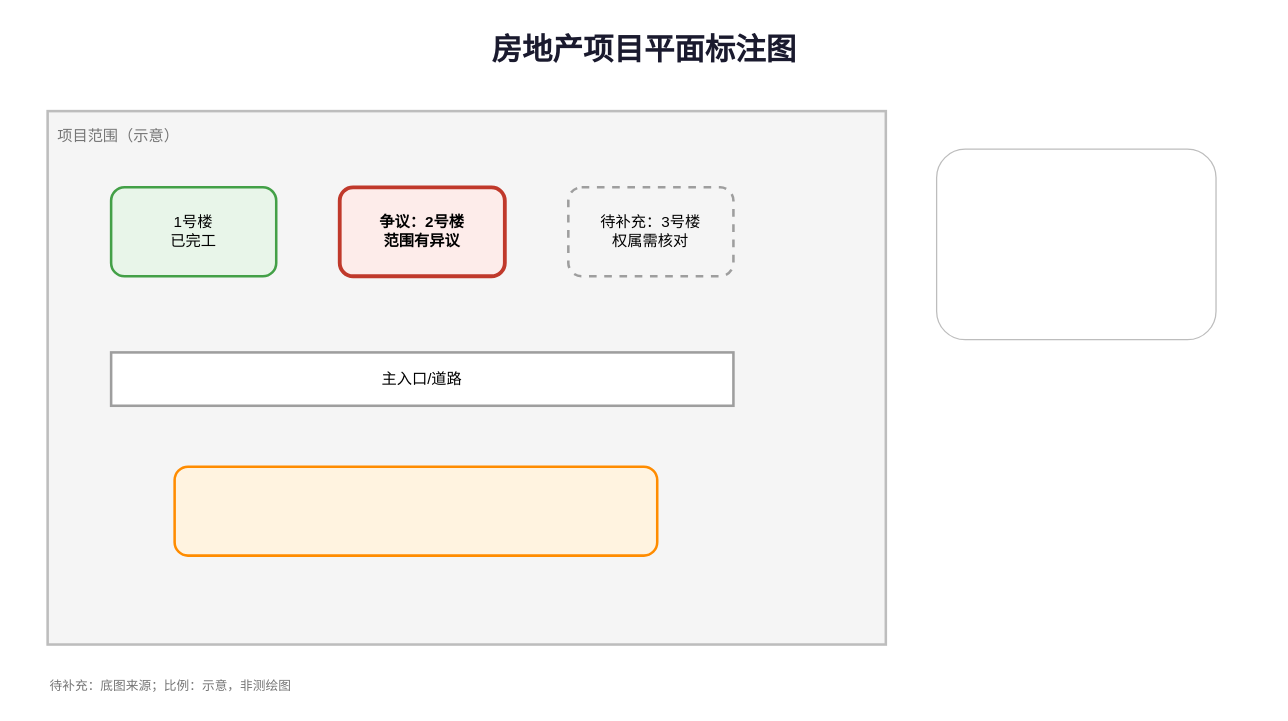
Some shapes in this 1288 by 721 pixel diagram are drawn without their labels. Each missing label, with the centre of its shape:
图例 绿色：无异议/已完工 红色：有异议范围 灰色虚线：需核对权属 橙色：配套/需分配区域: point (1075, 244)
待补充：地下车库/配套用房 面积需补充: point (415, 510)
